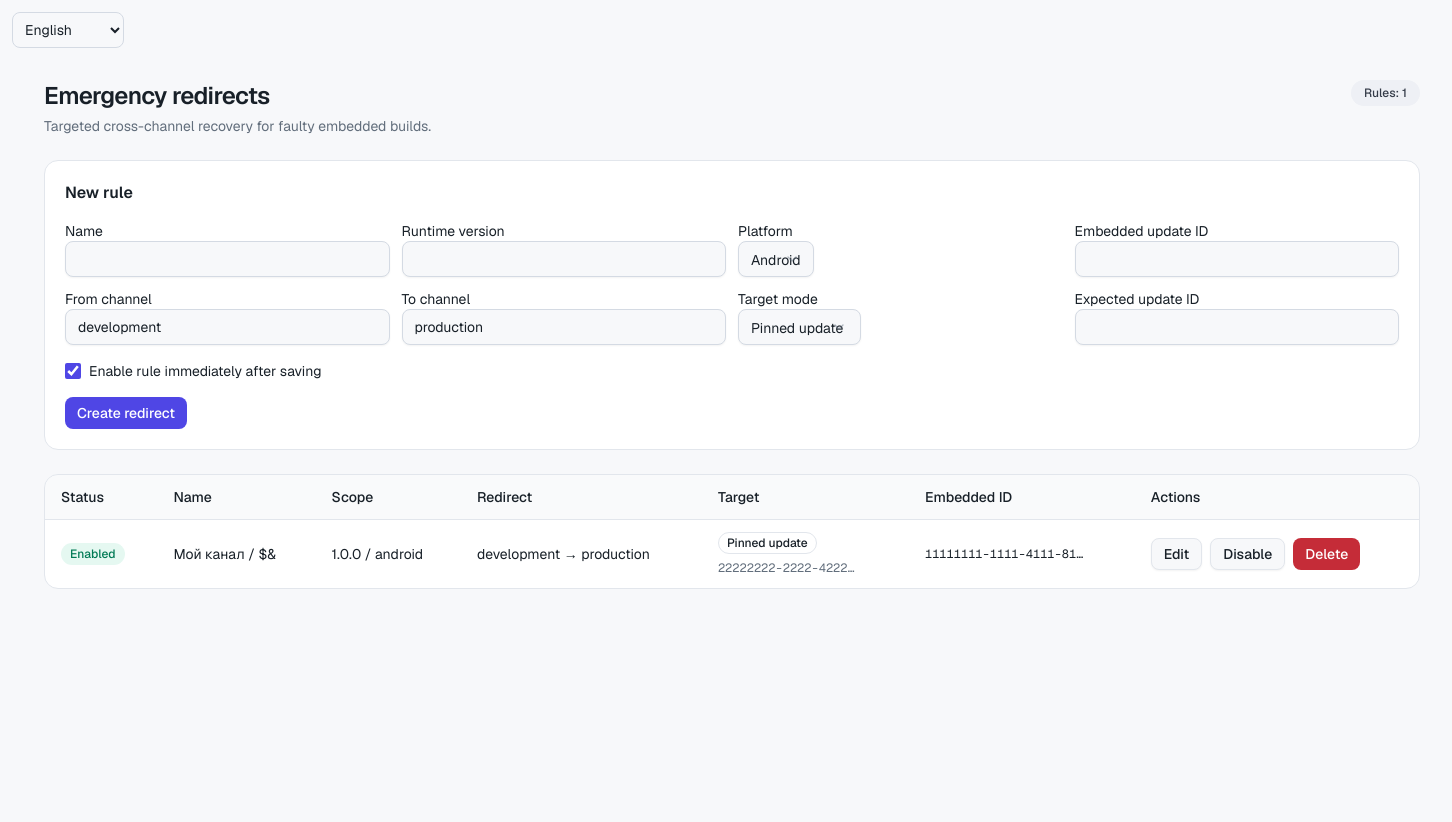
Scenario: language switching › switches recovery forms, status, notices and accessibility labels without losing data
The image size is (1452, 822).
Step 1. Click the button "Edit" → (1176,554), box 1151,538 -> 1202,570
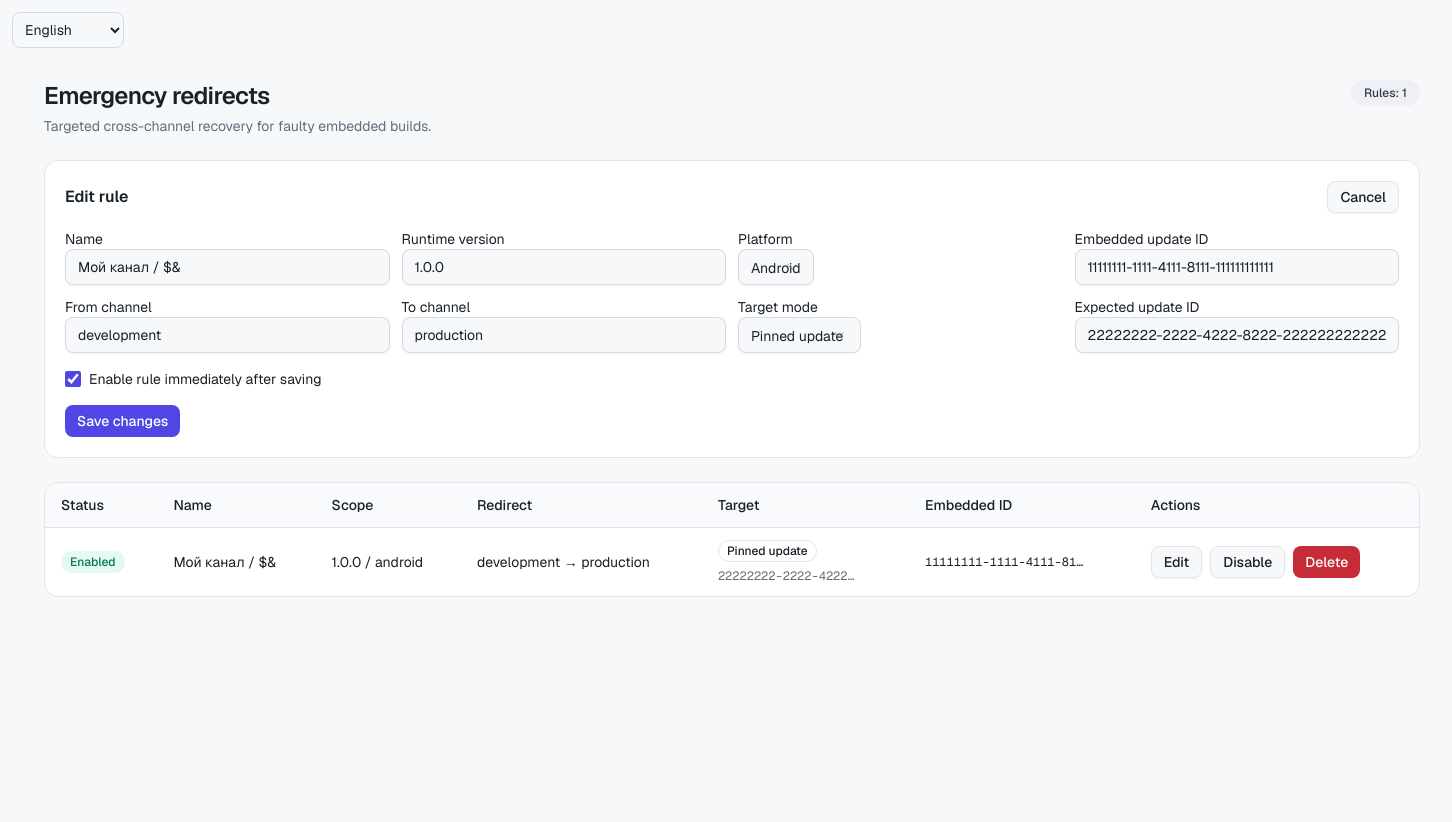
Step 2. Select "Русский" in the dropdown named "Interface language" → (68,30), box 12,12 -> 124,48
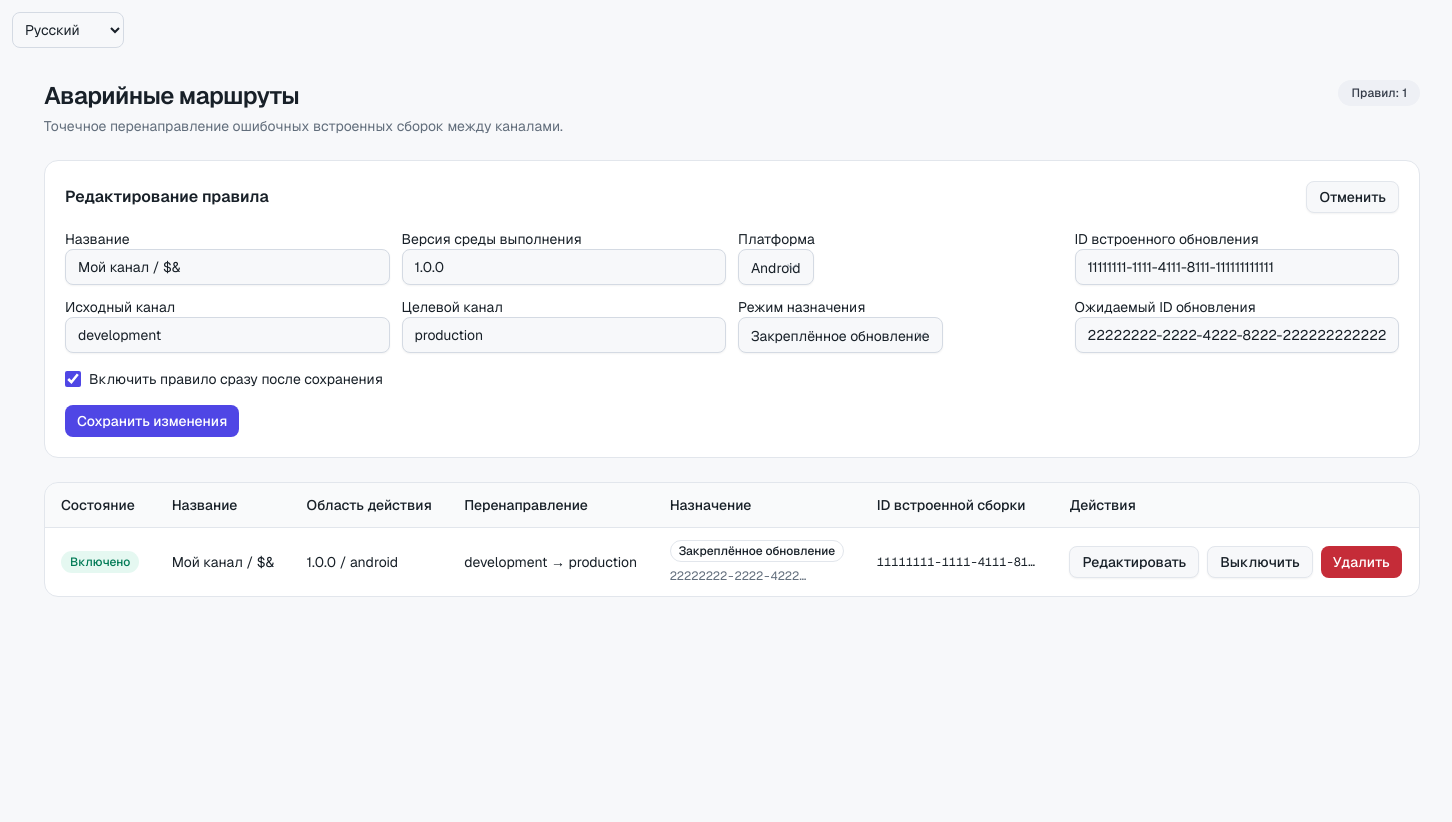
Result: the text "Исходный канал" is shown at 65,298 -> 175,316
Result: the text "Закреплённое обновление" is shown at 670,540 -> 844,562
Step 3. Click the button "Сохранить изменения" → (152,421), box 65,405 -> 239,437
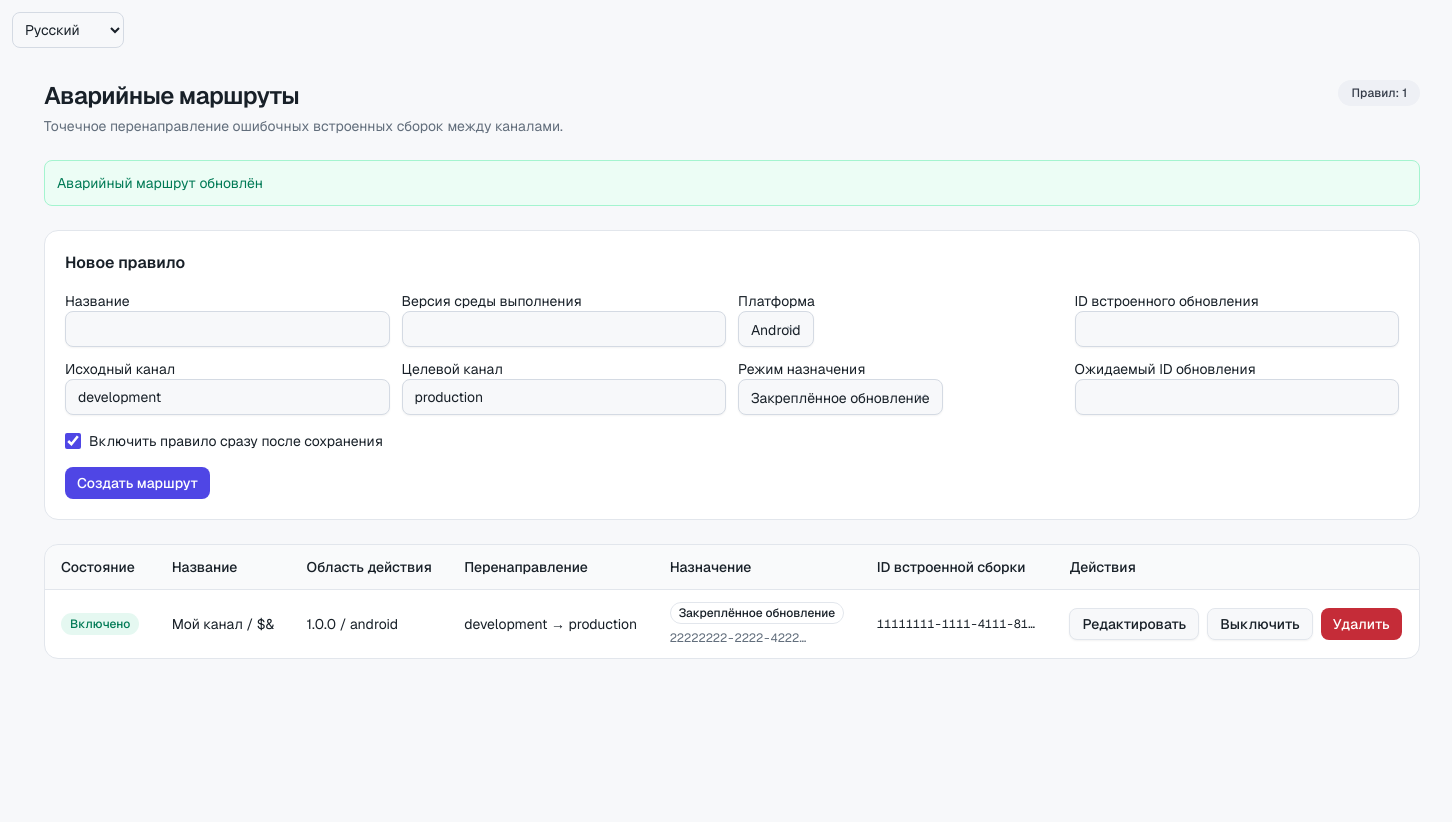
Result: the text "Аварийный маршрут обновлён" is shown at 44,160 -> 1420,206
Step 4. Select "Українська" in the dropdown named "Язык интерфейса" → (68,30), box 12,12 -> 124,48
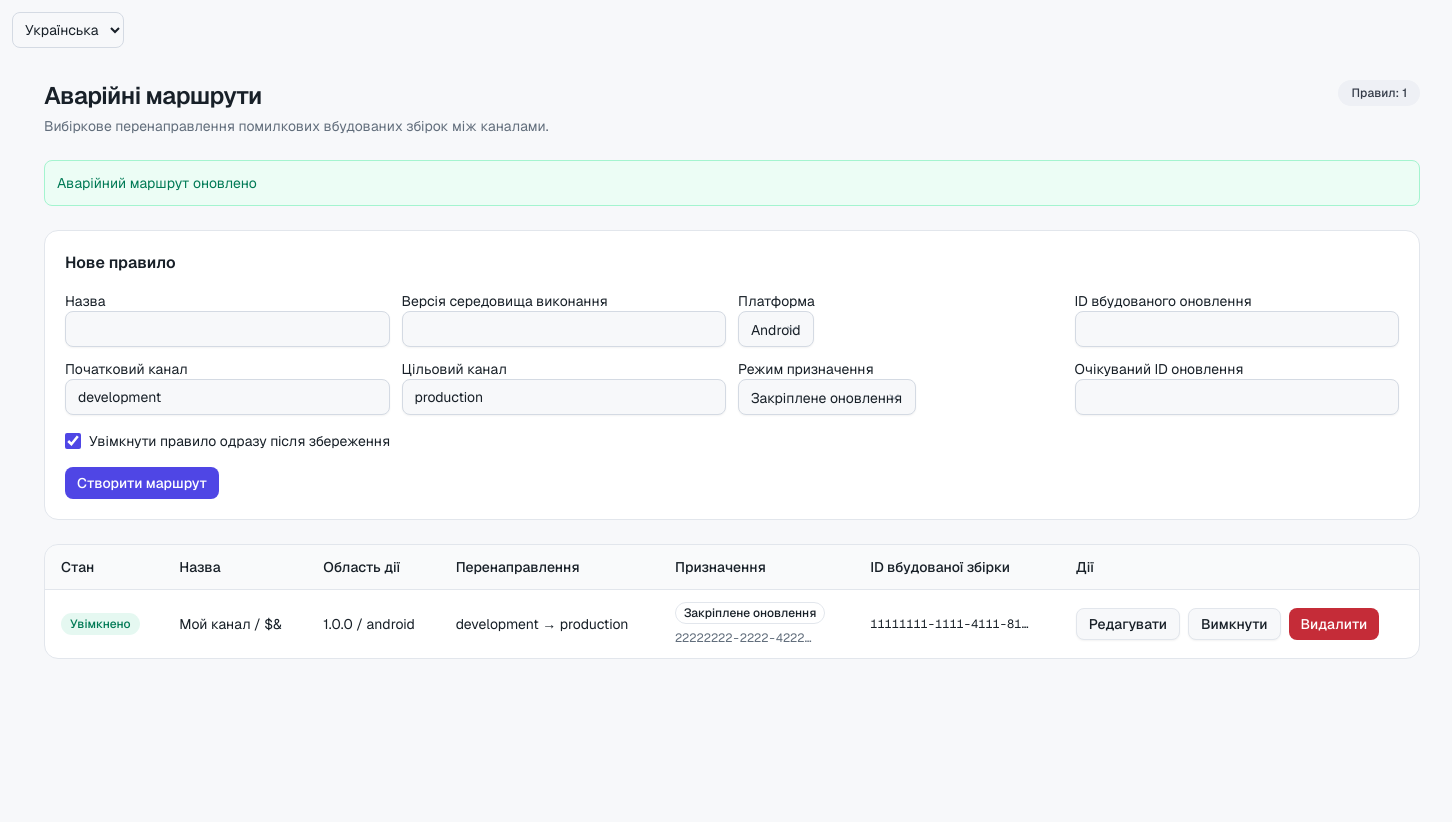
Result: the text "Аварійний маршрут оновлено" is shown at 44,160 -> 1420,206
Result: the text "Початковий канал" is shown at 65,360 -> 188,378
Result: the text "Увімкнено" is shown at 61,613 -> 140,635
Step 5. Select "English" in the dropdown named "Мова інтерфейсу" → (68,30), box 12,12 -> 124,48
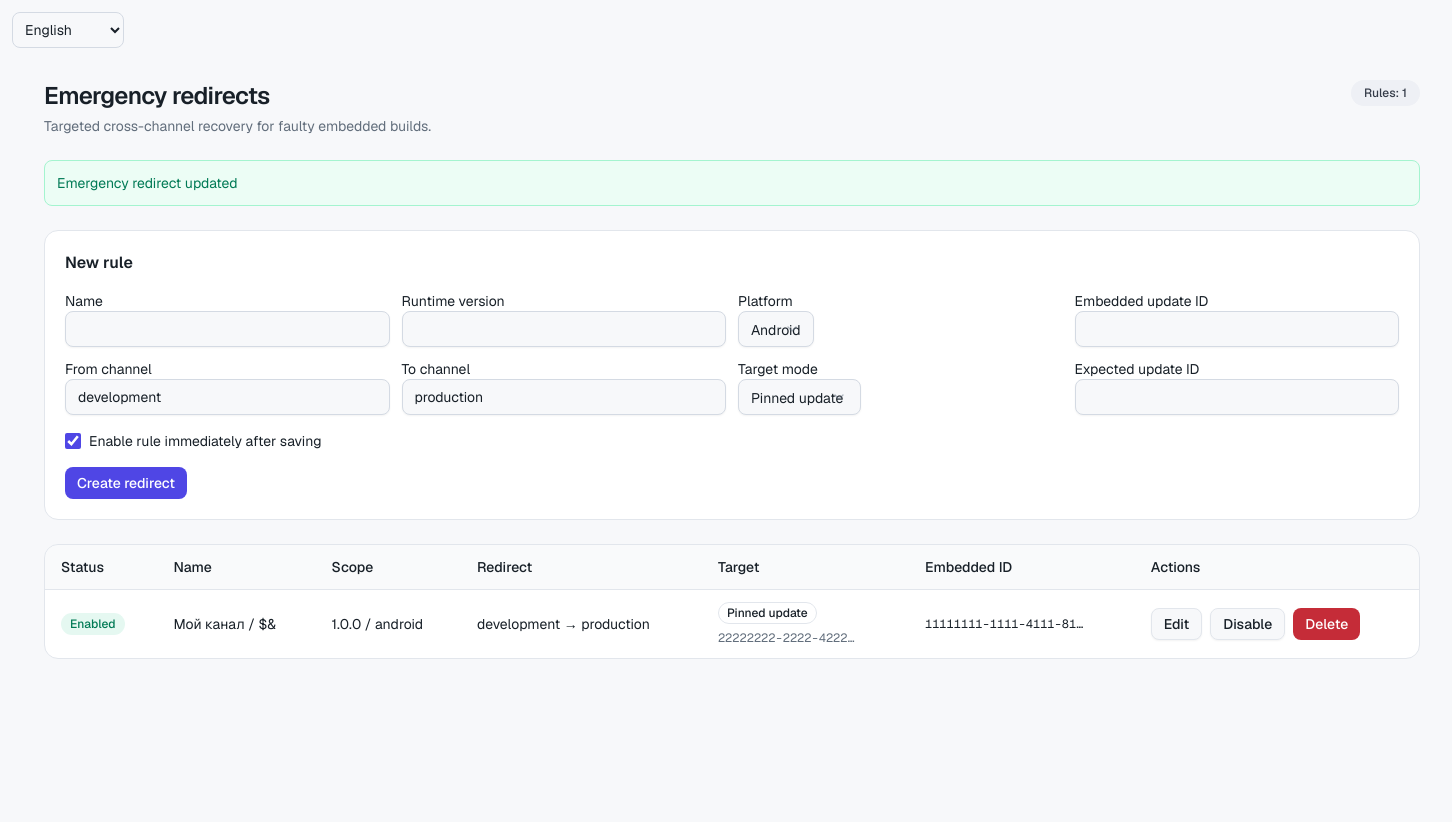
Result: the text "Emergency redirect updated" is shown at 44,160 -> 1420,206
